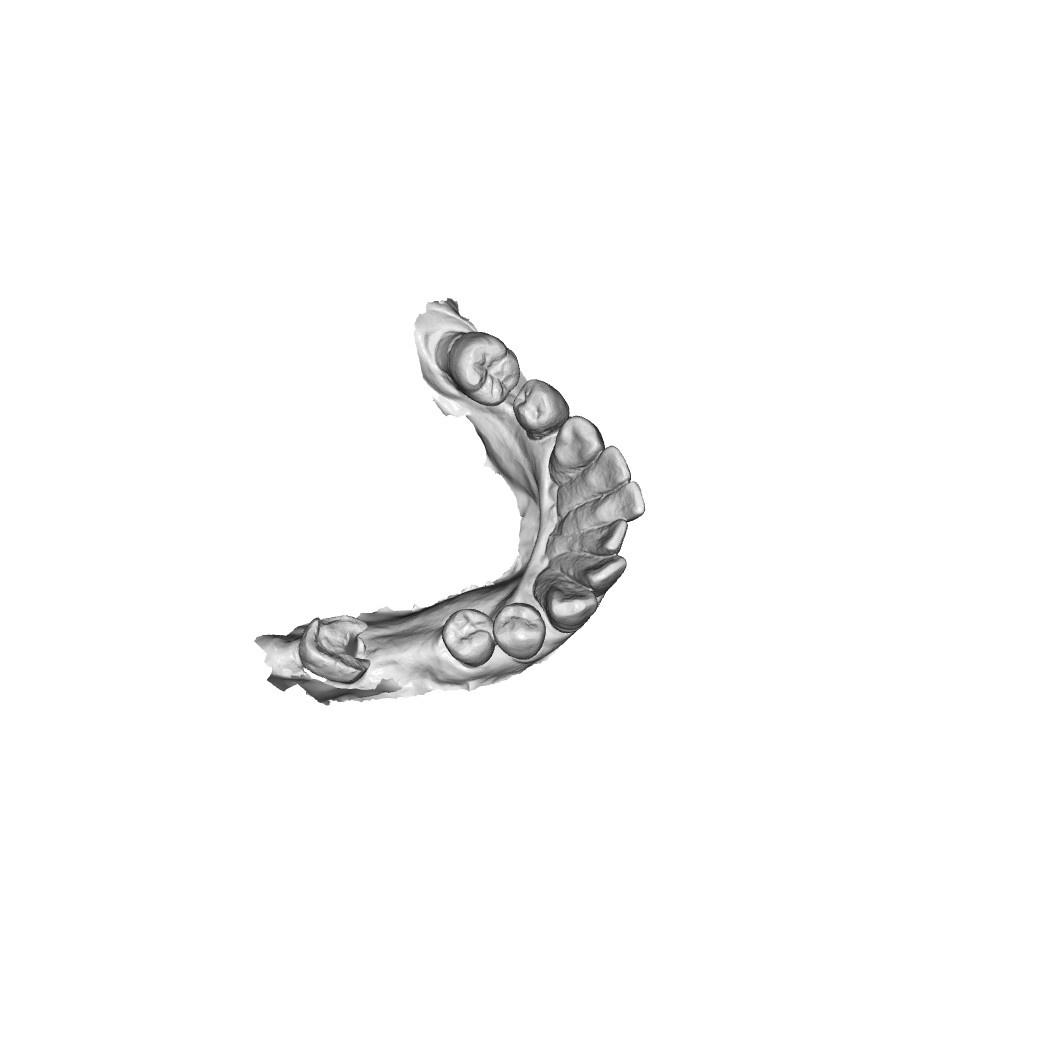canine: (540, 575, 599, 632), (550, 415, 601, 469)
incisor: (546, 449, 628, 496), (570, 486, 648, 527), (558, 548, 630, 588), (576, 525, 624, 554)
molar: (449, 330, 519, 408)
premolar: (442, 608, 499, 667), (515, 376, 568, 438), (493, 603, 547, 659)
